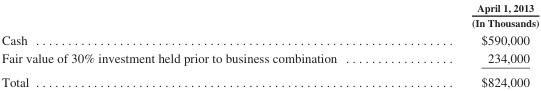table: (0, 0, 538, 88)
table column: (0, 0, 403, 88), (403, 0, 538, 88)
table column header: (0, 0, 538, 30)
table row: (0, 0, 538, 30), (0, 48, 538, 69), (0, 69, 538, 88), (0, 30, 538, 48)
